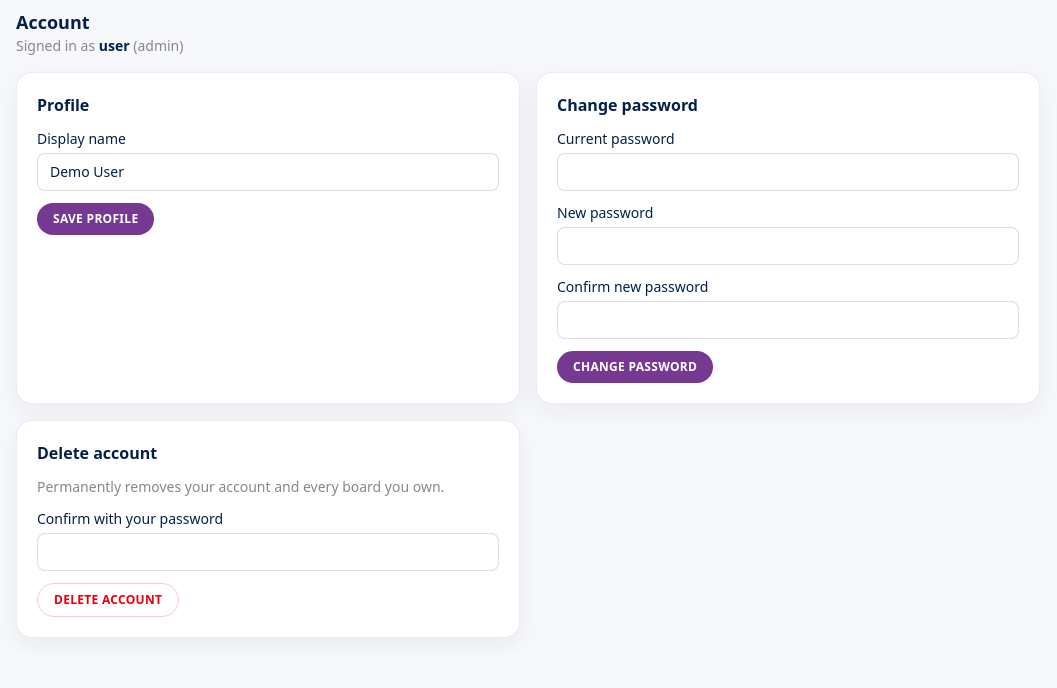
AccountSettings › changes the password
The width and height of the screenshot is (1057, 688).
Type "password" into the password field labelled "Current password". click: (788, 172)
box: 557,153 -> 1019,191
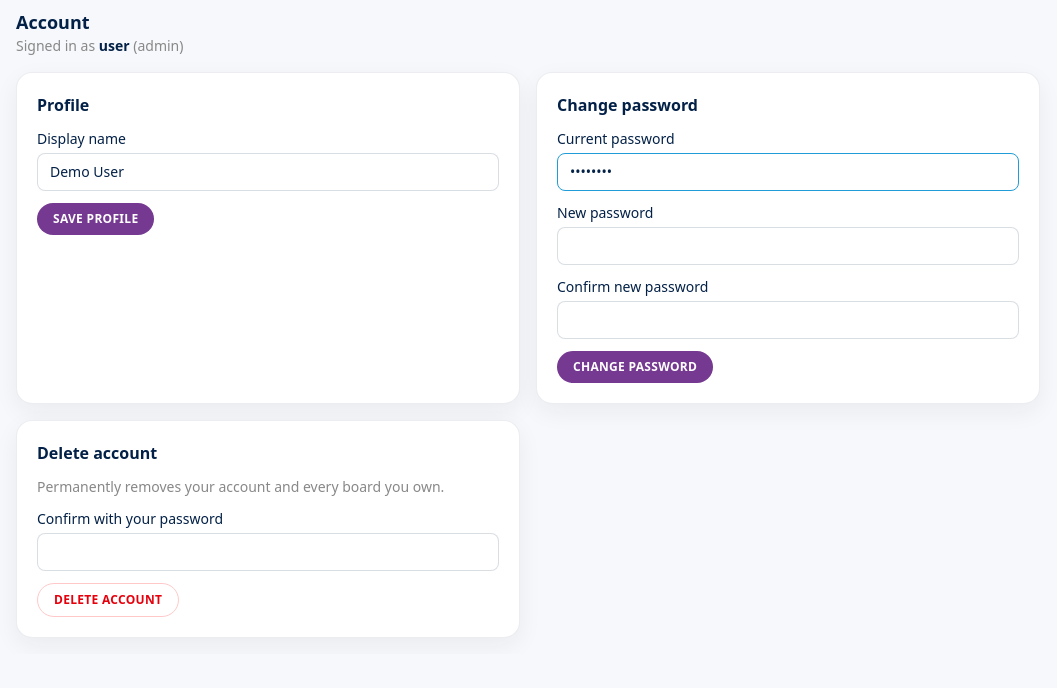
Type "new-password-1" into the password field labelled "New password". click: (788, 246)
box: 557,227 -> 1019,265
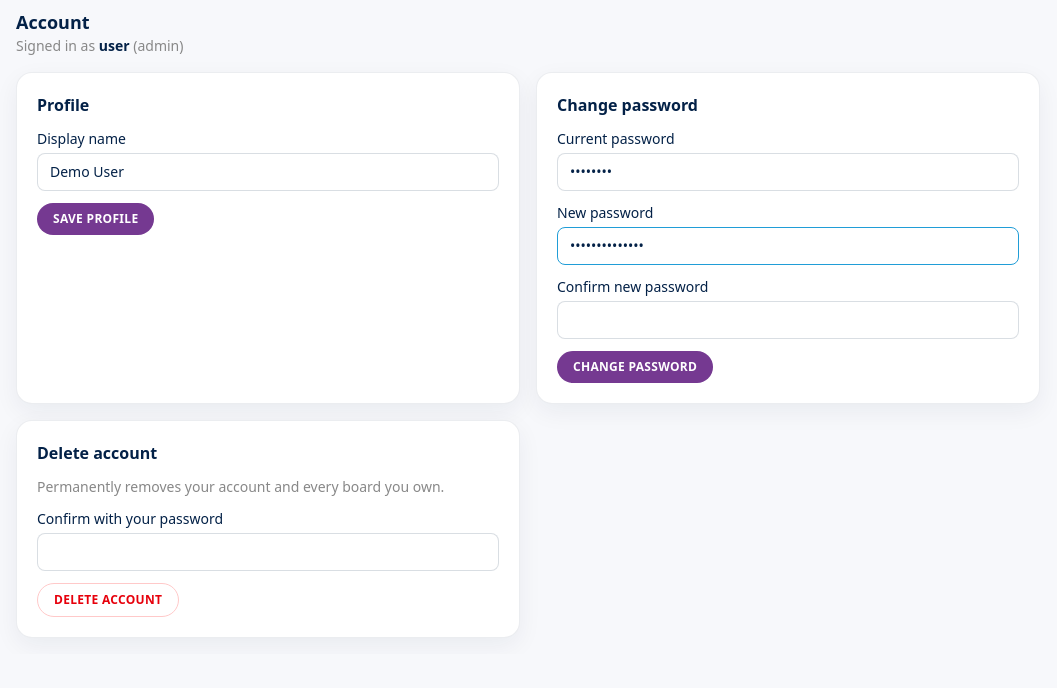
Type "new-password-1" into the password field labelled "Confirm new password". click: (788, 320)
box: 557,301 -> 1019,339
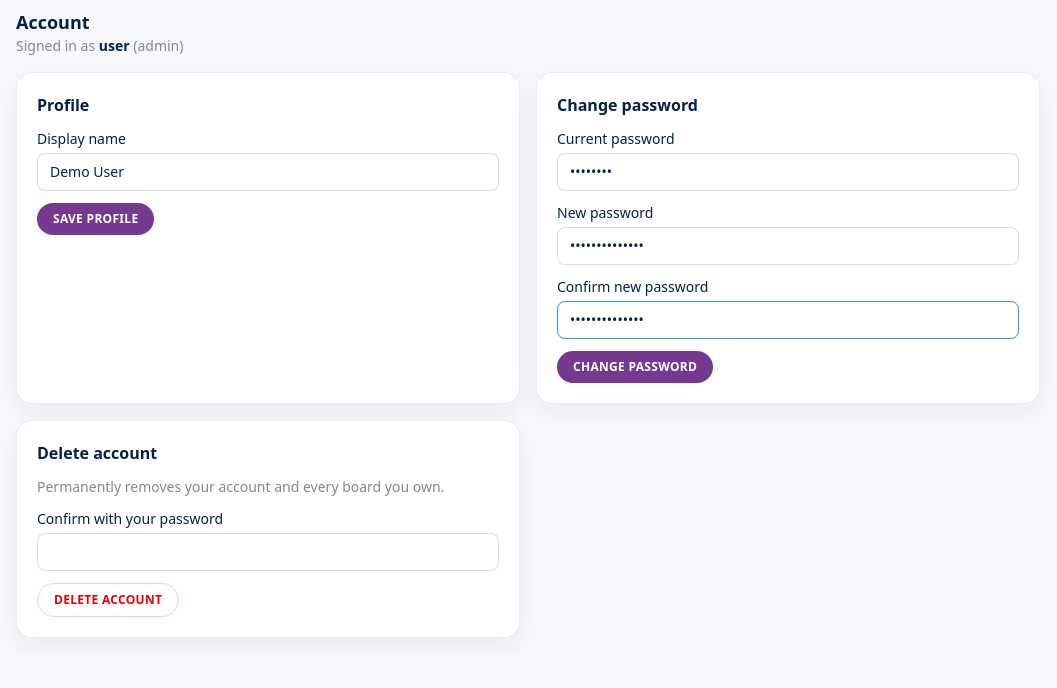
Click the button "Change password". click: (635, 367)
box: 557,351 -> 713,383
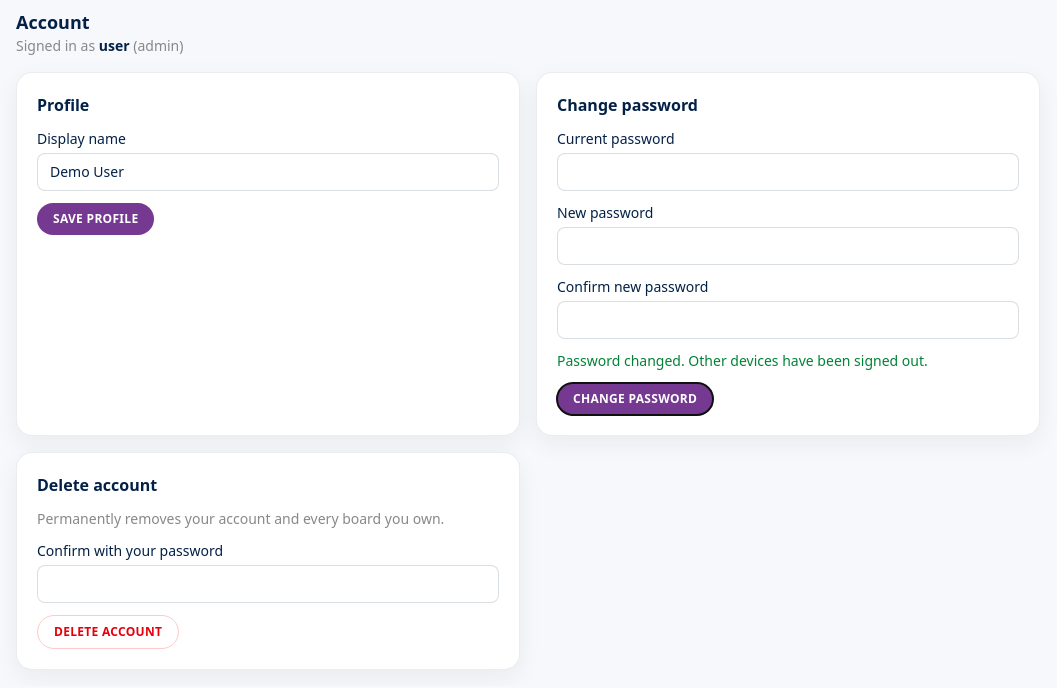
Expected: the message shows "Password changed", 557,351 -> 928,370
Expected: the password field labelled "Current password" is empty, 557,153 -> 1019,191
